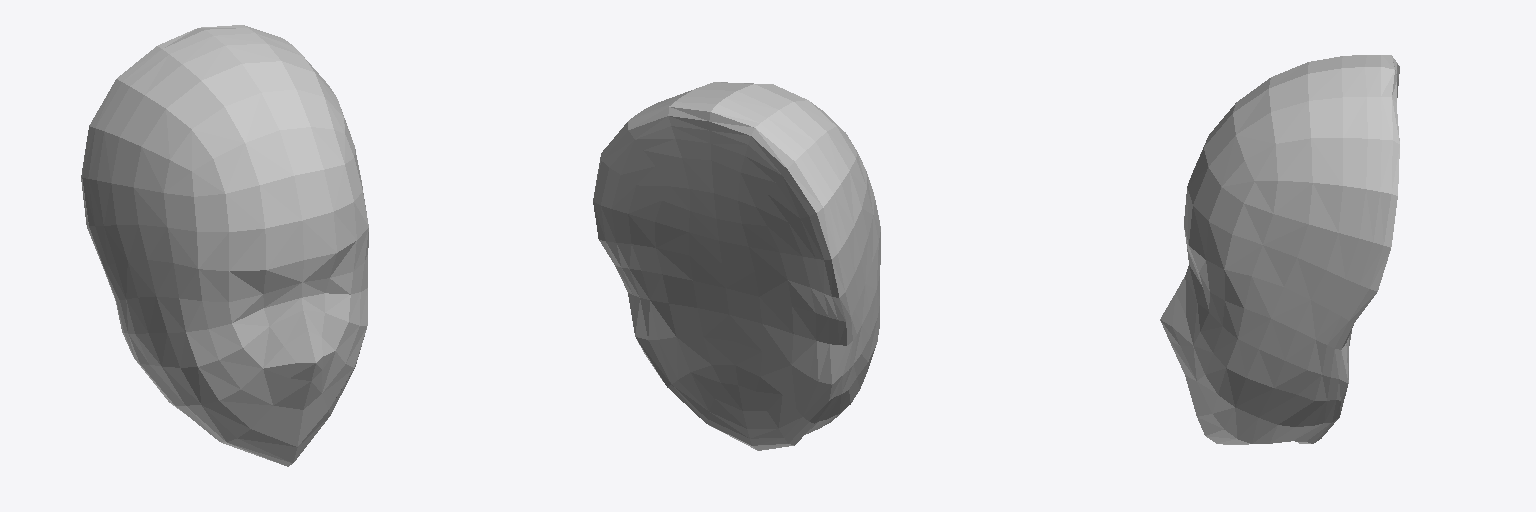
File: annie.1.face.JG.1.obj
3 renders of one model, left to right at view 1: azimuth 30°, elevation 25°; view 2: azimuth 150°, elevation 25°; view 3: azimuth 270°, elevation 25°, orthographic.
Parts seen in each view (by area): view 1: Group42948; view 2: Group42948; view 3: Group42948.
Part boxes in pixels (left/top/right/bottom): Group42948: left=81, top=25, right=368, bottom=466; Group42948: left=593, top=82, right=880, bottom=450; Group42948: left=1160, top=55, right=1399, bottom=444.
Bounding box in the file's own units: 14.46 × 21.41 × 12.31.